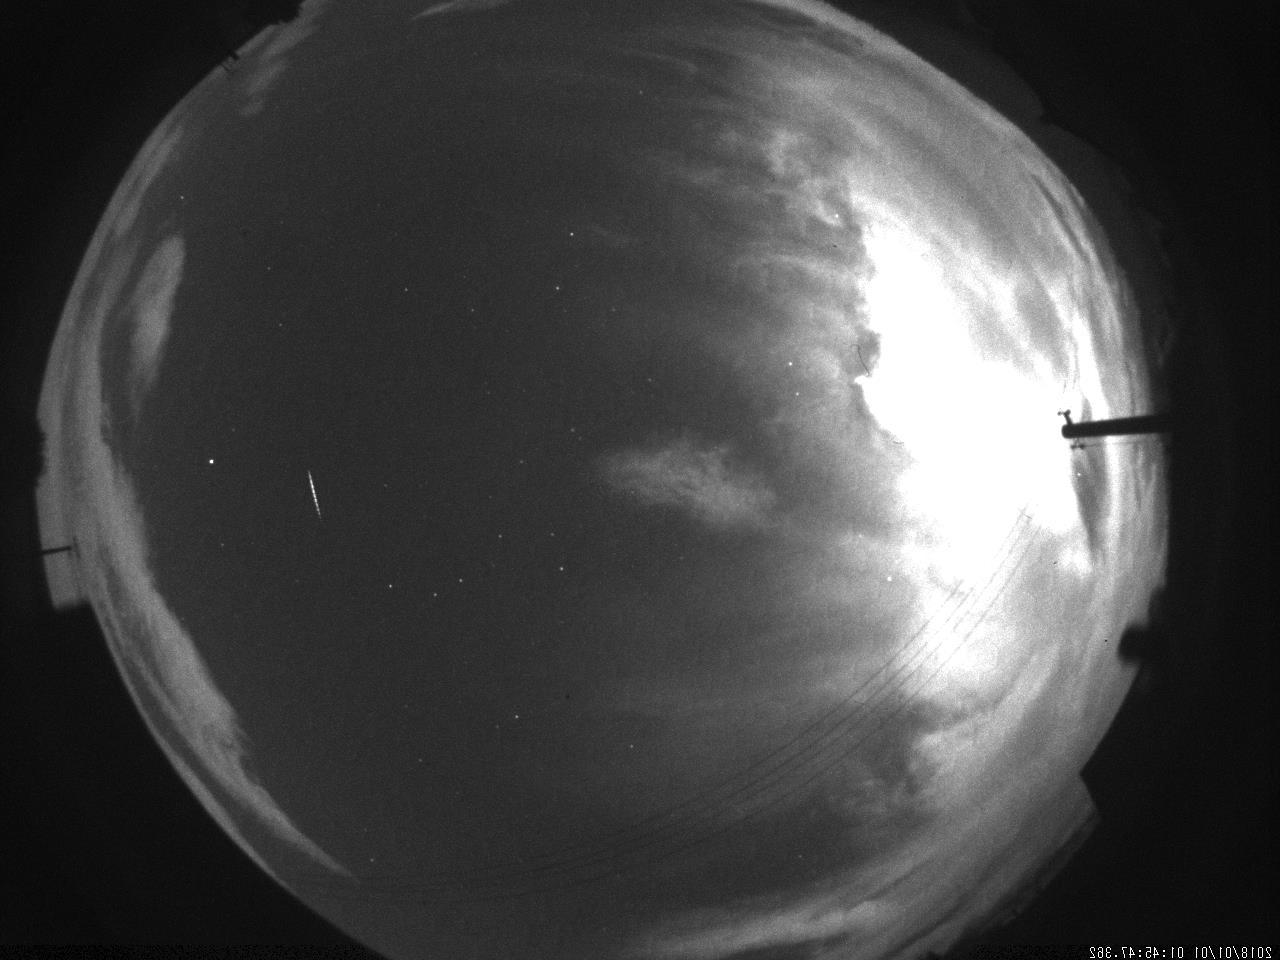meteor: (300, 461, 336, 533)
